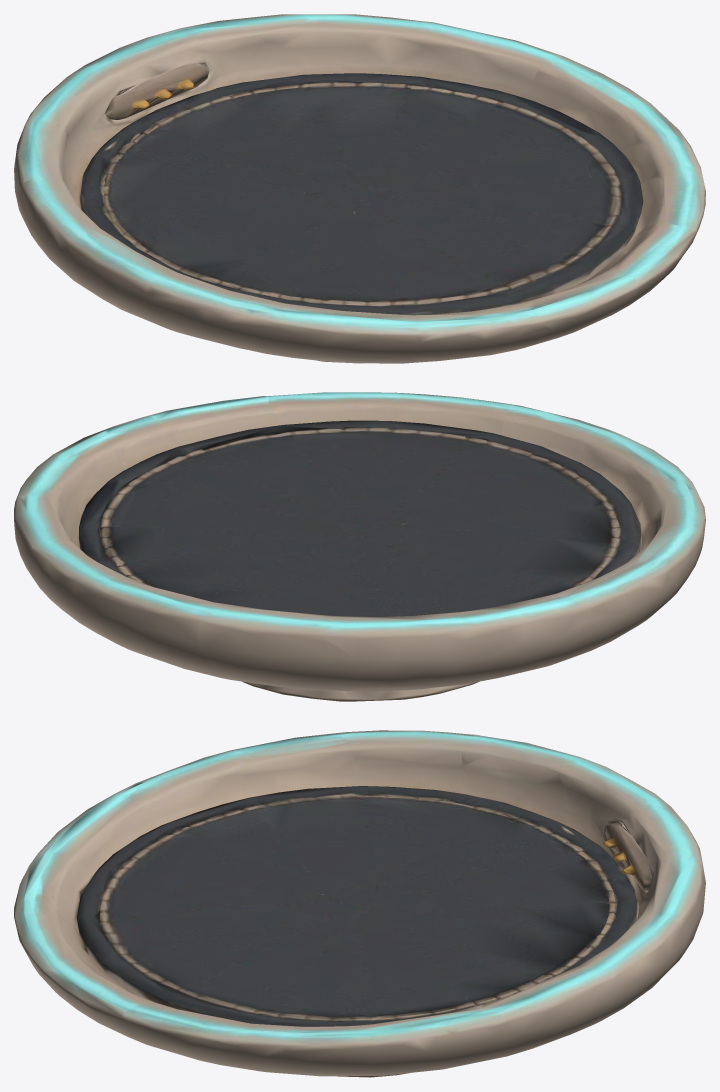
Rendered from dock.low.glb.
The picture shows the model from 3 angles, top to bottom: view 1: azimuth 30°, elevation 25°; view 2: azimuth 150°, elevation 25°; view 3: azimuth 270°, elevation 25°; orthographic projection.
Parts seen in each view (by area): view 1: tripo_node_fc9dbdd1-13e9-4fe1-a3a2-e0e570959ab2; view 2: tripo_node_fc9dbdd1-13e9-4fe1-a3a2-e0e570959ab2; view 3: tripo_node_fc9dbdd1-13e9-4fe1-a3a2-e0e570959ab2.
Boxes of the visible parts, left/top/right/bottom form: tripo_node_fc9dbdd1-13e9-4fe1-a3a2-e0e570959ab2: left=14, top=14, right=705, bottom=363; tripo_node_fc9dbdd1-13e9-4fe1-a3a2-e0e570959ab2: left=14, top=392, right=705, bottom=701; tripo_node_fc9dbdd1-13e9-4fe1-a3a2-e0e570959ab2: left=14, top=730, right=705, bottom=1077.
Size of the model in its own units: 0.2999 by 0.0699 by 0.2998.
Materials: 1 (1 with a texture image).
